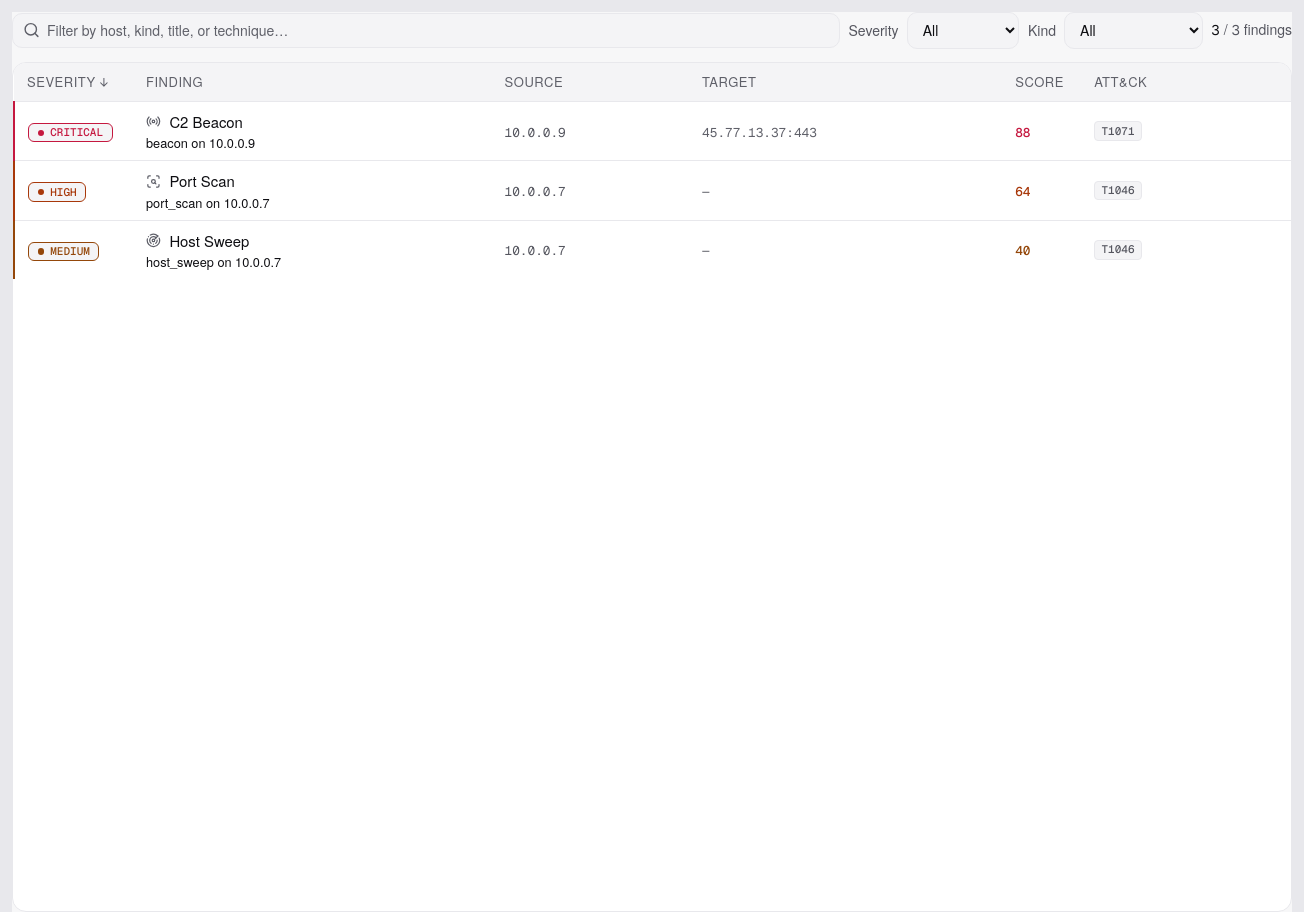
Test: FindingsView › filters by free text
The width and height of the screenshot is (1304, 912).
Type "beacon" into the field named "Filter findings" at (426, 30), box left=12, top=12, right=840, bottom=48
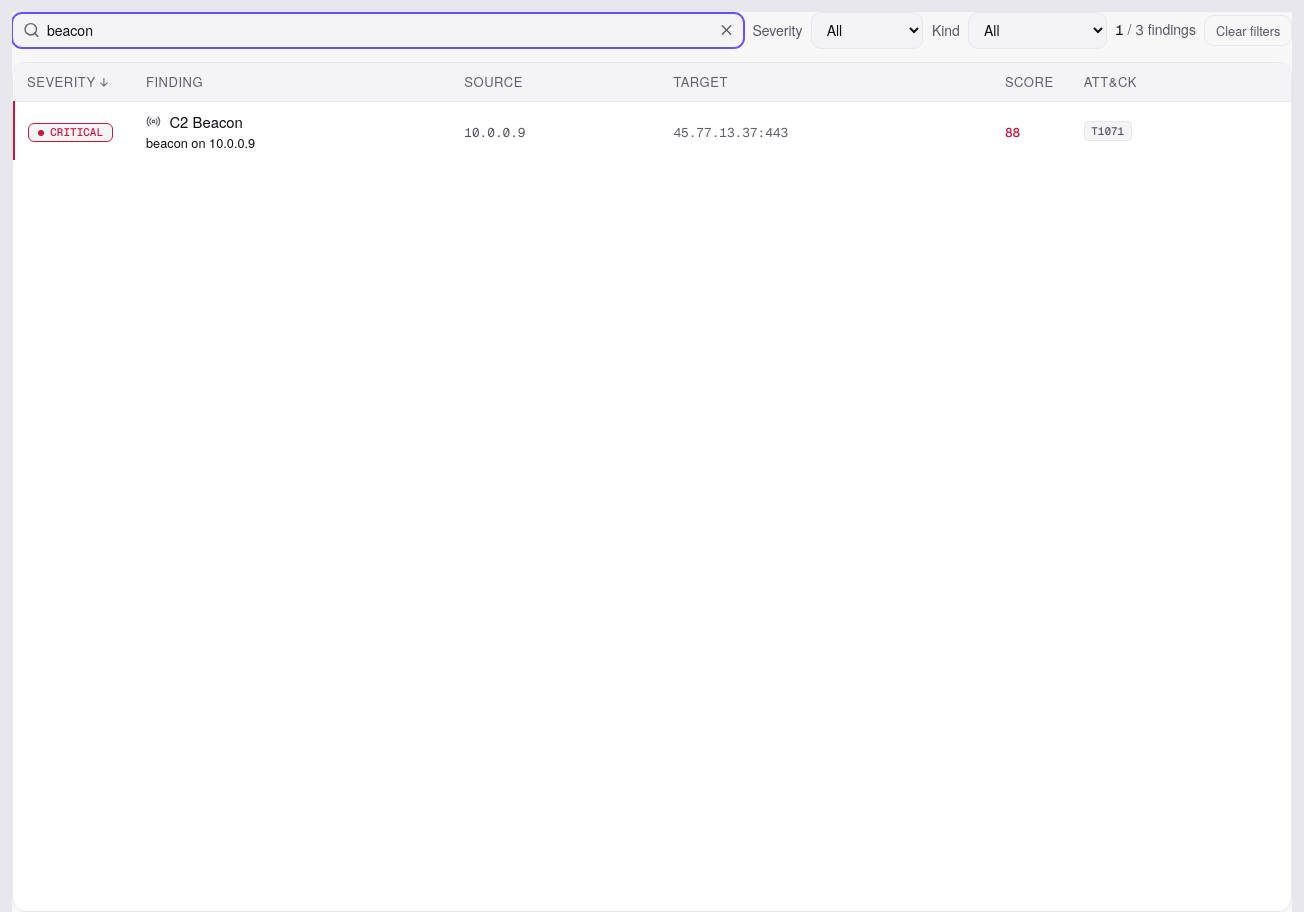
Check: the text "C2 Beacon" is shown, box left=169, top=111, right=243, bottom=132
Check: the text "Port Scan" is gone
